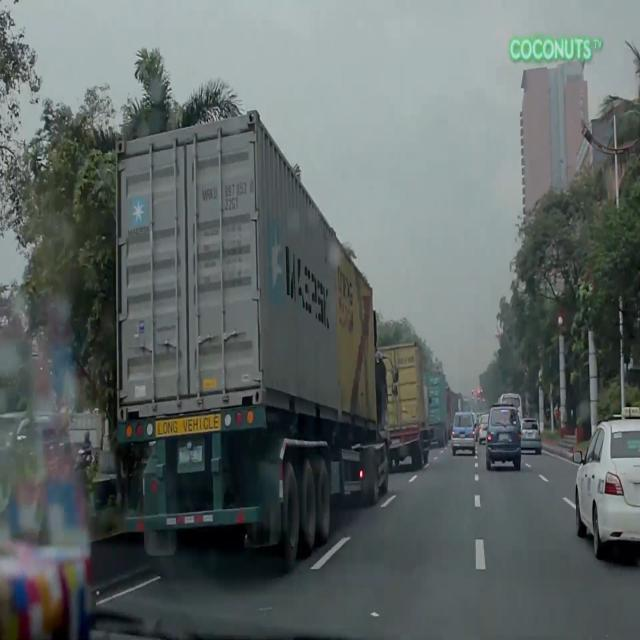truck: (115, 104, 400, 566), (376, 340, 432, 473), (425, 368, 450, 447)
